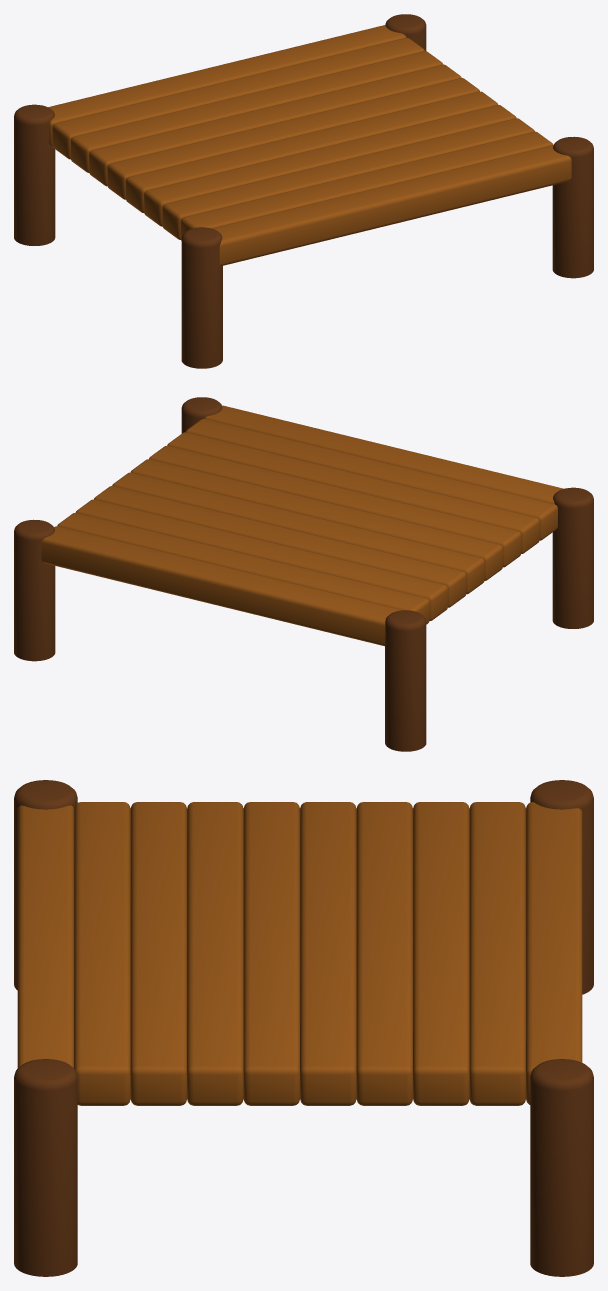
The model's file is Dock.fbx.
The picture shows the model from 3 angles, top to bottom: view 1: azimuth 30°, elevation 25°; view 2: azimuth 150°, elevation 25°; view 3: azimuth 270°, elevation 25°; orthographic projection. The views are drawn at different scales.
Visible parts, largest first — view 1: dock; view 2: dock; view 3: dock.
Boxes of the visible parts, x1,y1,x2,y2 form: dock: (14,14,593,368); dock: (14,397,593,751); dock: (14,780,593,1276).
Size of the model in its own units: 2254 by 666 by 1806.
